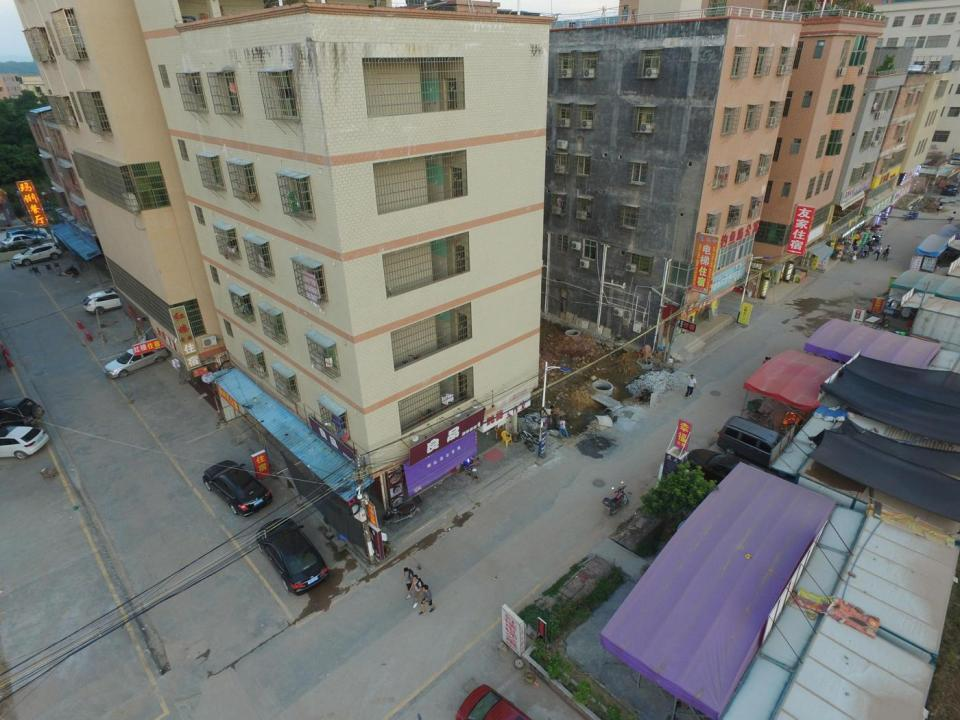car: (256, 518, 326, 596), (688, 449, 782, 500), (205, 460, 270, 516), (105, 340, 174, 377), (0, 423, 49, 460), (0, 395, 43, 426), (85, 288, 134, 312), (12, 242, 61, 265), (6, 229, 46, 243), (1, 235, 42, 248), (942, 184, 958, 197)
van: (718, 415, 785, 470)
